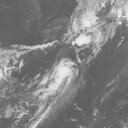cyclone: (47, 57, 78, 93)
